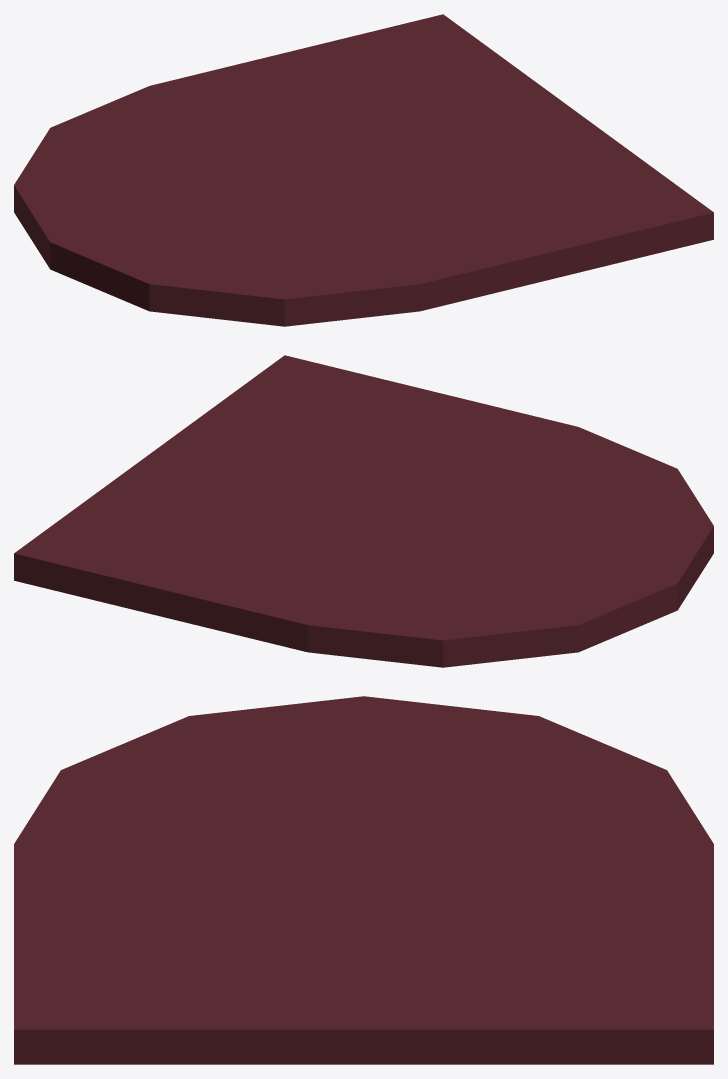
File: Oneway.fbx
3 renders of one model, top to bottom at view 1: azimuth 30°, elevation 25°; view 2: azimuth 150°, elevation 25°; view 3: azimuth 270°, elevation 25°, orthographic. The views are drawn at different scales.
Visible parts, largest first — view 1: Oneway; view 2: Oneway; view 3: Oneway.
Part boxes in pixels (x1=…): Oneway: x1=14, y1=14, x2=713, y2=326; Oneway: x1=14, y1=355, x2=713, y2=667; Oneway: x1=14, y1=696, x2=713, y2=1064.
Size of the model in its own units: 91.25 by 4.5 by 81.
